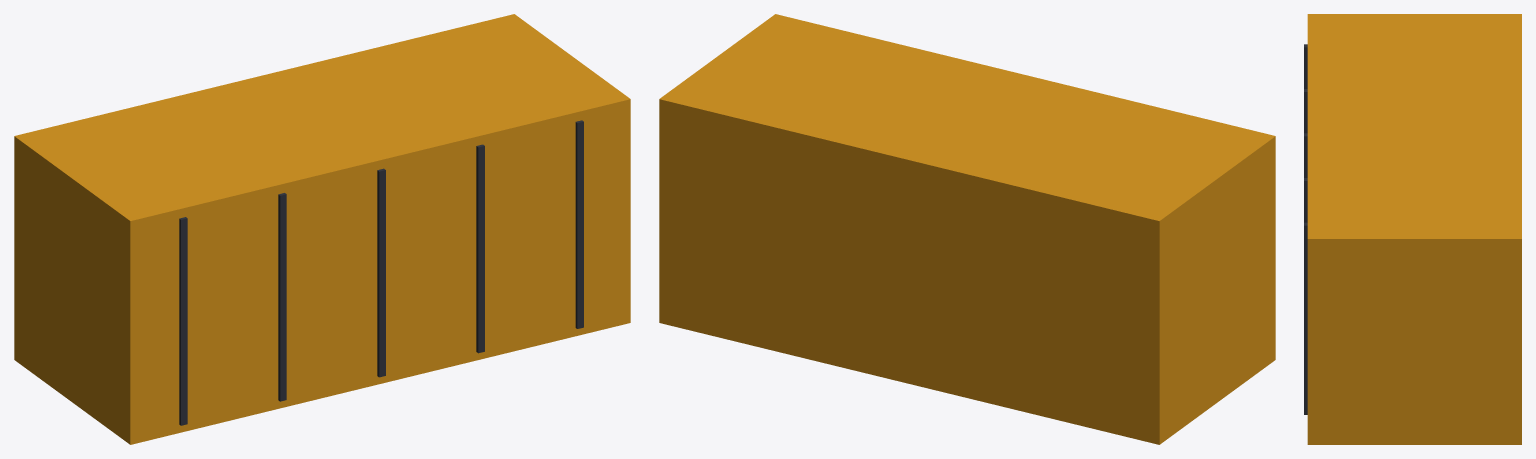
File: container_closed_amber.glb
The picture shows the model from 3 angles, left to right: view 1: azimuth 30°, elevation 25°; view 2: azimuth 150°, elevation 25°; view 3: azimuth 270°, elevation 25°; orthographic projection. The views are drawn at different scales.
Parts seen in each view (by area): view 1: model; view 2: model; view 3: model.
Boxes of the visible parts, x1,y1,x2,y2 form: model: (14,14,630,444); model: (659,14,1275,444); model: (1304,14,1521,444).
Size of the model in its own units: 6.06 by 2.59 by 2.48.
